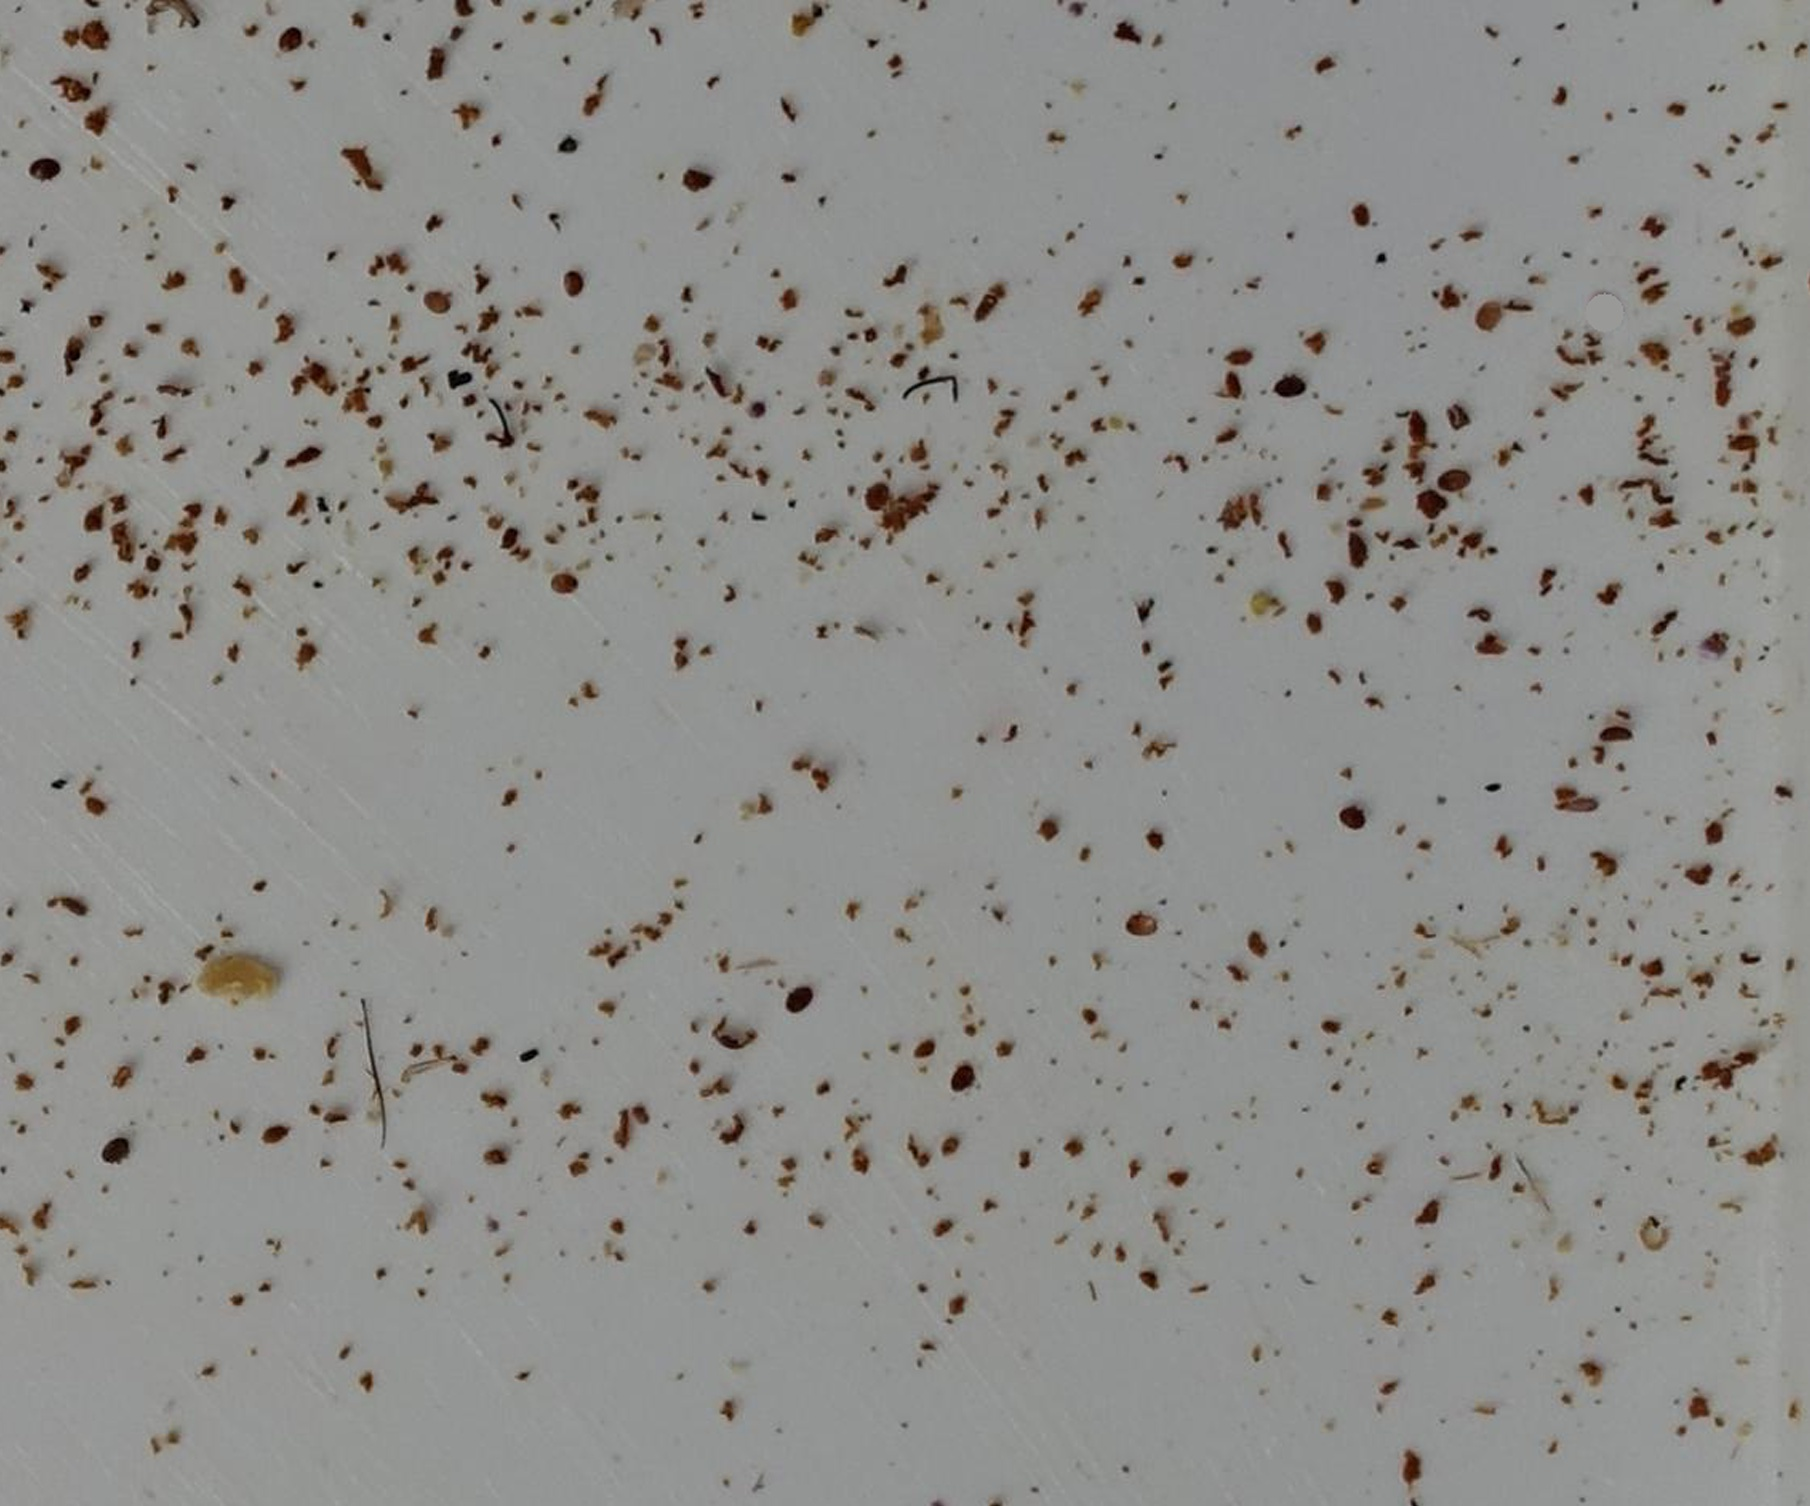Varroa: (98, 1124, 126, 1154), (32, 155, 59, 183), (1341, 801, 1367, 827), (1440, 470, 1466, 494), (277, 27, 301, 53), (861, 488, 885, 513), (786, 987, 809, 1012), (1129, 908, 1152, 932), (552, 570, 574, 594), (952, 1069, 974, 1093), (1275, 370, 1297, 392), (561, 271, 582, 293), (425, 292, 443, 313)
